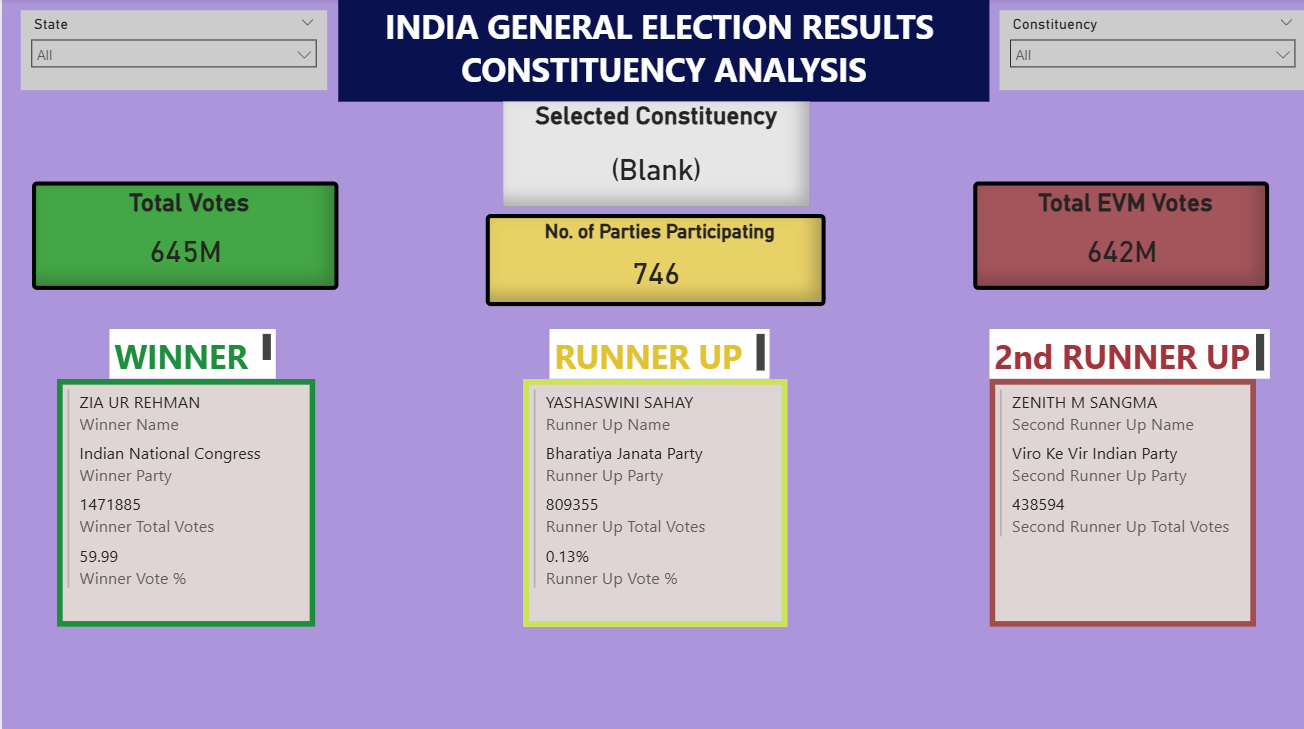

This screenshot's page, from the dashboard's own definition file:
{"tool":"powerbi","page":{"name":"Constituency Analysis","canvas":[1280,720],"ordinal":1},"visuals":[{"type":"textbox","box":[330.1,0,639.3,100.6],"z":0},{"type":"card","title":"Selected Constituency","fields":{"Values":["final_election_result_data.Selected Constituency"]},"box":[492,100.6,300.6,103.1],"z":1000},{"type":"card","title":"Total Votes","fields":{"Values":["final_election_result_data.Total Votes (Selected)"]},"box":[29.4,179.1,300.6,106.7],"z":2000},{"type":"card","title":"Total EVM Votes","fields":{"Values":["final_election_result_data.Total EVM Votes"]},"box":[953.4,179.1,290.8,106.7],"z":3000},{"type":"slicer","fields":{"Values":["final_election_result_data.Constituency"]},"box":[979.1,11,300.6,78.5],"z":4000},{"type":"slicer","fields":{"Values":["final_election_result_data.State"]},"box":[18.4,11,300.6,78.5],"z":5000},{"type":"multiRowCard","fields":{"Values":["final_election_result_data.Winner Name","final_election_result_data.Winner Party","final_election_result_data.Winner Total Votes","final_election_result_data.Winner Vote %"]},"box":[54,373,254,242.9],"z":6000},{"type":"multiRowCard","fields":{"Values":["final_election_result_data.Runner Up Name","final_election_result_data.Runner Up Party","final_election_result_data.Runner Up Total Votes","final_election_result_data.Runner Up Vote %"]},"box":[511.7,373,258.9,242.9],"z":7000},{"type":"multiRowCard","fields":{"Values":["final_election_result_data.Second Runner Up Name","final_election_result_data.Second Runner Up Party","final_election_result_data.Second Runner Up Total Votes"]},"box":[969.3,373,261.4,242.9],"z":8000},{"type":"textbox","box":[105.5,323.9,163.2,49.1],"z":9000},{"type":"textbox","box":[537.4,323.9,216,49.1],"z":10000},{"type":"textbox","box":[969.3,323.9,274.8,49.1],"z":11000},{"type":"card","title":"No. of Parties Participating ","fields":{"Values":["final_election_result_data.No of Parties Participating"]},"box":[474.8,211,333.7,90.8],"z":12000}]}

Visuals, with their boxes in screenshot pixels (x1, y1, x2, y2), scaled from the page's 1280x720 canvas onto the 1304x729 screenshot:
textbox: locate(336, 0, 988, 102)
"Selected Constituency" card: locate(501, 102, 807, 206)
"Total Votes" card: locate(30, 181, 336, 289)
"Total EVM Votes" card: locate(971, 181, 1268, 289)
slicer - final_election_result_data.Constituency: locate(997, 11, 1303, 91)
slicer - final_election_result_data.State: locate(19, 11, 325, 91)
multiRowCard - final_election_result_data.Winner Name x final_election_result_data.Winner Party: locate(55, 378, 314, 624)
multiRowCard - final_election_result_data.Runner Up Name x final_election_result_data.Runner Up Party: locate(521, 378, 785, 624)
multiRowCard - final_election_result_data.Second Runner Up Name x final_election_result_data.Second Runner Up Party: locate(987, 378, 1254, 624)
textbox: locate(107, 328, 274, 378)
textbox: locate(547, 328, 768, 378)
textbox: locate(987, 328, 1267, 378)
"No. of Parties Participating " card: locate(484, 214, 824, 306)
